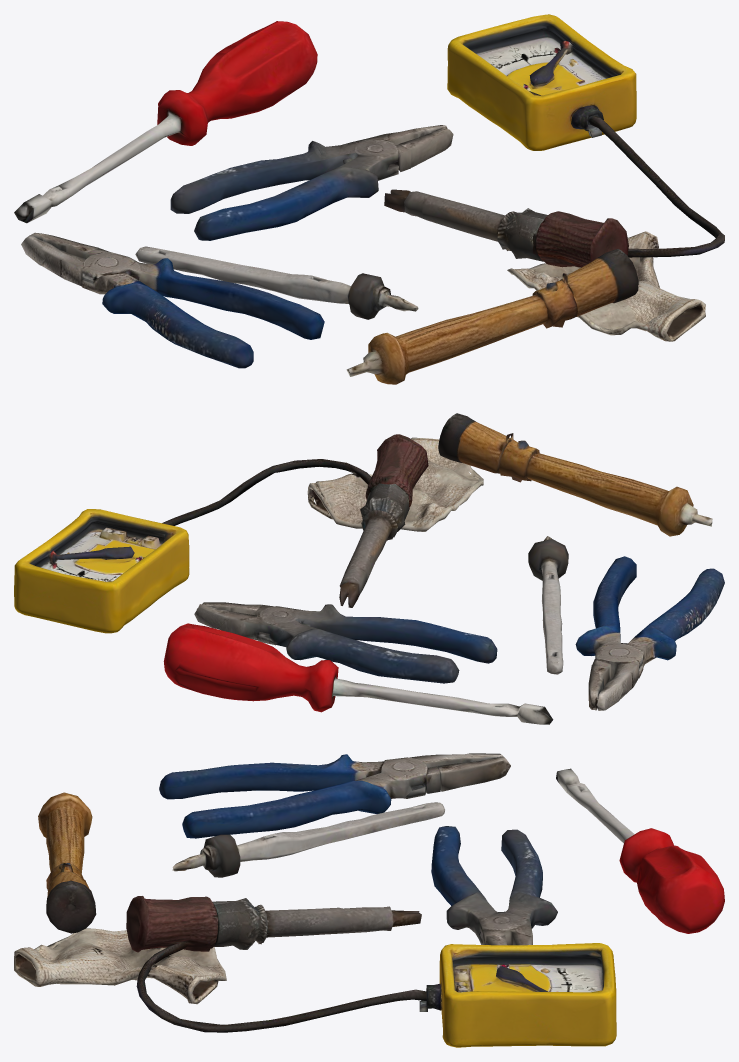
The model's file is tools.glb.
The picture shows the model from 3 angles, top to bottom: view 1: azimuth 30°, elevation 25°; view 2: azimuth 150°, elevation 25°; view 3: azimuth 270°, elevation 25°; orthographic projection. The views are drawn at different scales.
Parts seen in each view (by area): view 1: hand tool set 3d model; view 2: hand tool set 3d model; view 3: hand tool set 3d model.
Boxes of the visible parts, x1=… form: hand tool set 3d model: x1=14, y1=14, x2=724, y2=384; hand tool set 3d model: x1=14, y1=413, x2=724, y2=724; hand tool set 3d model: x1=14, y1=753, x2=724, y2=1047.
Bounding box in the file's own units: 0.367 × 0.05 × 0.3858.
Materials: 1 (1 with a texture image).
